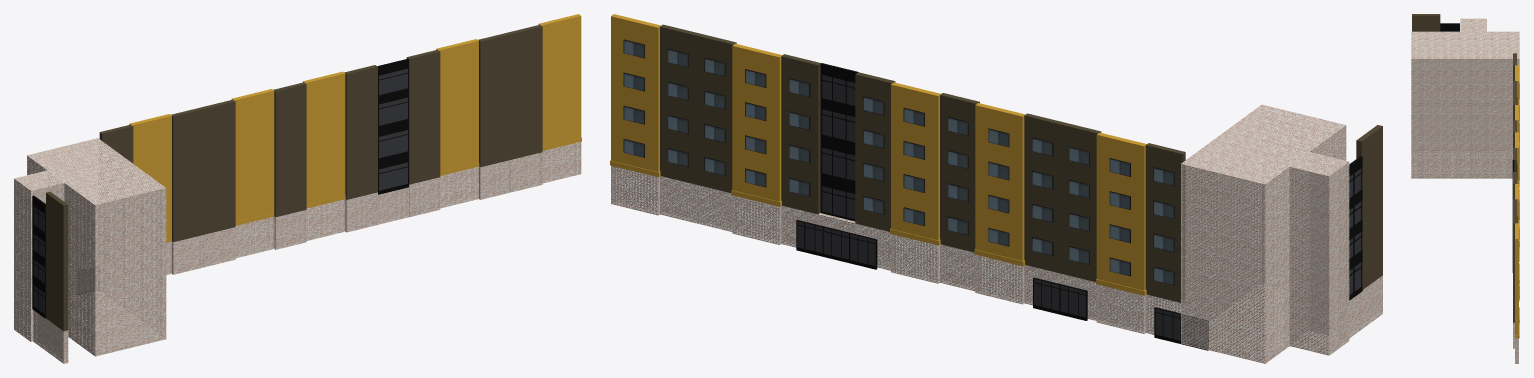
Rendered from camelback_in_front.obj.
3 renders of one model, left to right at view 1: azimuth 30°, elevation 25°; view 2: azimuth 150°, elevation 25°; view 3: azimuth 270°, elevation 25°, orthographic. The views are drawn at different scales.
Visible parts, largest first — view 1: Part32, Part109, Part138, Part169, Part69, Part160, Part60, Part100, Part239, Part81, Part150, Part181 (+21 smaller); view 2: Part32, Part31, Part169, Part69, Part248, Part138, Part109, Part81, Part260, Part181, Part150, Part60 (+28 smaller); view 3: Part32, Part31, Part1, Part138, Part150, Part8, Part109, Part69, Part248, Part130.
Part boxes in pixels (<box>): Part32: <box>27,138,166,356</box>; Part109: <box>303,71,345,204</box>; Part138: <box>538,14,581,146</box>; Part169: <box>231,89,274,221</box>; Part69: <box>436,39,478,171</box>; Part160: <box>273,82,306,217</box>; Part60: <box>478,32,511,167</box>; Part100: <box>344,65,377,199</box>; Part239: <box>171,107,204,242</box>; Part81: <box>406,49,440,184</box>; Part150: <box>509,24,542,159</box>; Part181: <box>202,99,235,234</box>; Part32: <box>1181,104,1346,363</box>; Part31: <box>1287,151,1349,355</box>; Part169: <box>975,103,1025,260</box>; Part69: <box>732,43,782,201</box>; Part248: <box>1096,132,1146,290</box>; Part138: <box>611,14,660,171</box>; Part109: <box>891,82,940,240</box>; Part81: <box>781,54,821,214</box>; Part260: <box>1145,143,1185,302</box>; Part181: <box>1024,113,1063,273</box>; Part150: <box>660,24,699,184</box>; Part60: <box>696,33,736,192</box>; Part32: <box>1411,31,1519,178</box>; Part31: <box>1460,18,1486,151</box>; Part1: <box>1412,14,1440,96</box>; Part138: <box>1515,223,1518,334</box>; Part150: <box>1513,211,1516,322</box>; Part8: <box>1440,23,1459,31</box>; Part109: <box>1515,132,1518,183</box>; Part69: <box>1515,184,1518,223</box>; Part248: <box>1515,65,1518,104</box>; Part130: <box>1515,338,1518,363</box>.
Size of the model in its own units: 263 by 68.55 by 53.2.
Materials: 9 (3 with a texture image).
